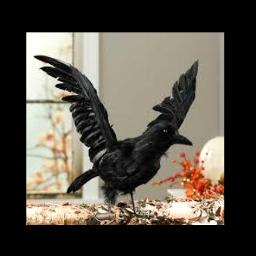Crow: (32, 53, 201, 215)
